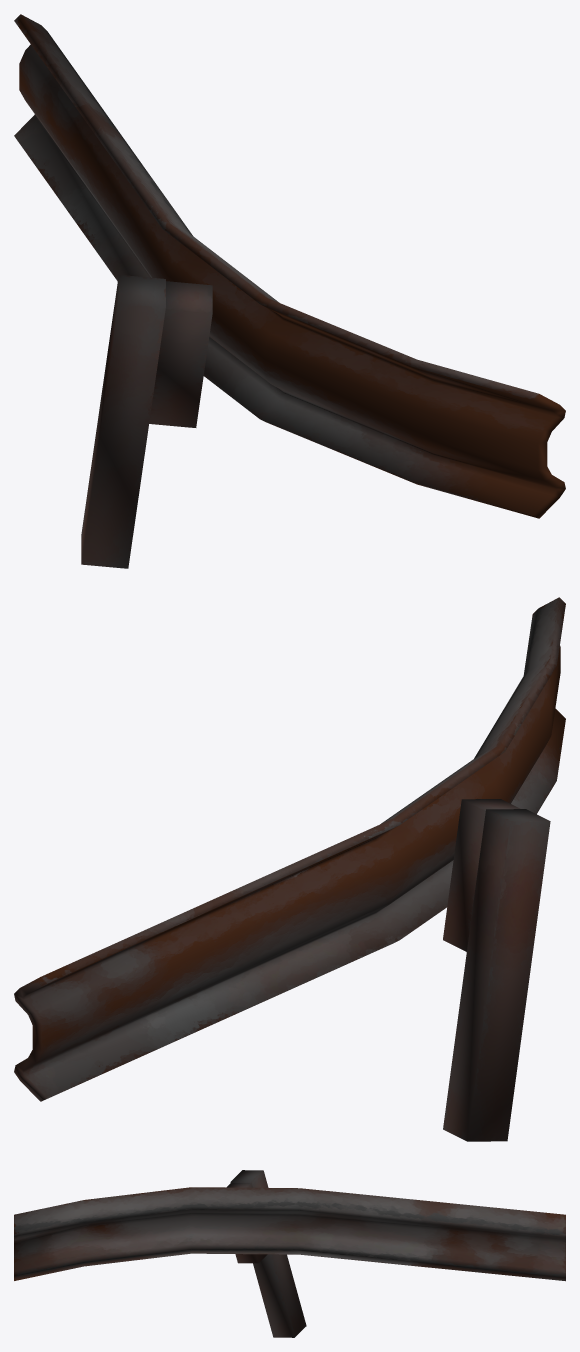
Rendered from Segment#6(Dented_Var#3).fbx.
The picture shows the model from 3 angles, top to bottom: view 1: azimuth 30°, elevation 25°; view 2: azimuth 150°, elevation 25°; view 3: azimuth 270°, elevation 25°; orthographic projection. The views are drawn at different scales.
Visible parts, largest first — view 1: Cube.011, Cube.007; view 2: Cube.011, Cube.007; view 3: Cube.011, Cube.007.
Part boxes in pixels (x1,y1,x2,y2): Cube.011: (14, 14, 565, 518); Cube.007: (81, 274, 212, 568); Cube.011: (14, 597, 565, 1101); Cube.007: (443, 799, 550, 1141); Cube.011: (14, 1187, 565, 1281); Cube.007: (226, 1170, 306, 1337).
Bounding box in the file's own units: 69.42 × 89.19 × 268.
